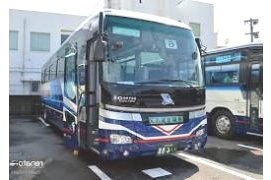bus: (40, 6, 207, 160)
